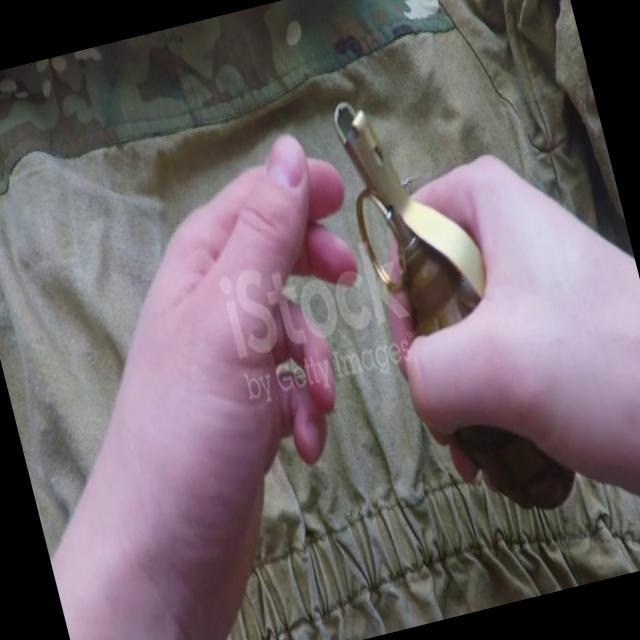grenade: (332, 70, 586, 538)
